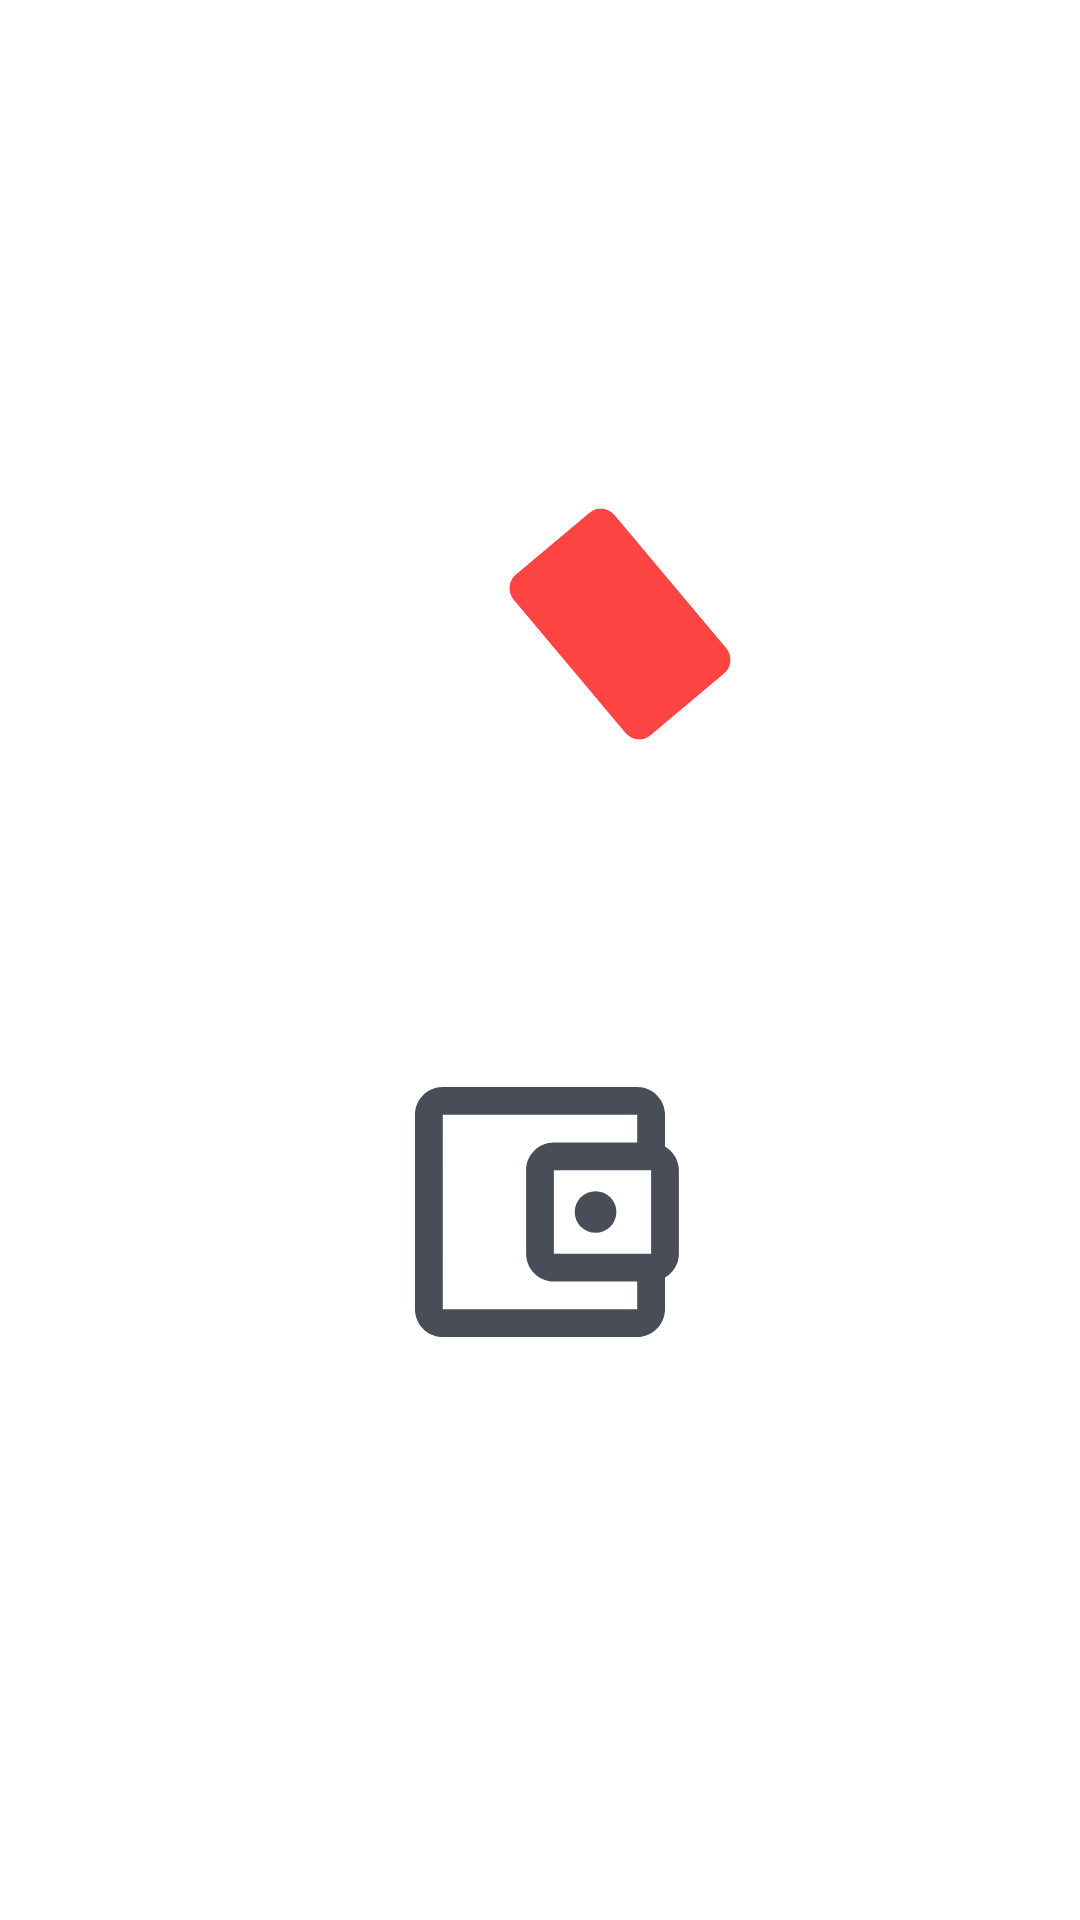

Where to tap for icons on this 1080*1920 app screen, as (x,y):
wallet: (547,1212)
